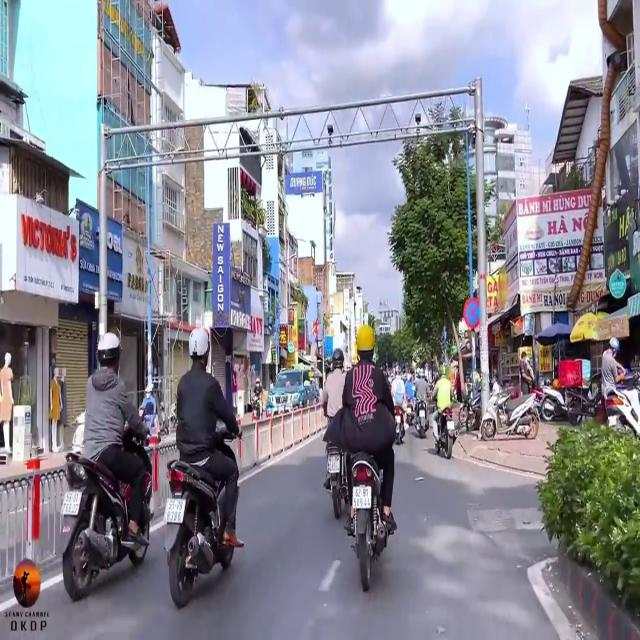bien_trang: (164, 498, 186, 523), (61, 493, 82, 514), (352, 486, 372, 508)
